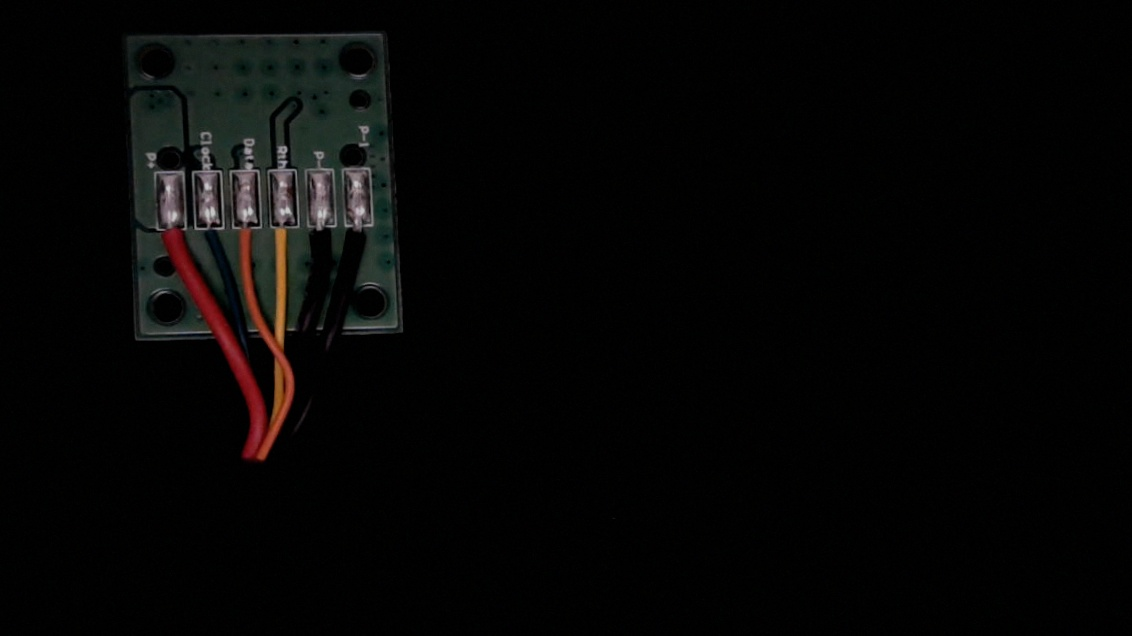Black: (305, 212, 338, 270)
Black1: (343, 211, 375, 272)
Green: (194, 213, 225, 267)
Orange: (231, 215, 263, 272)
Red: (155, 216, 189, 280)
Yellow: (267, 212, 298, 271)
